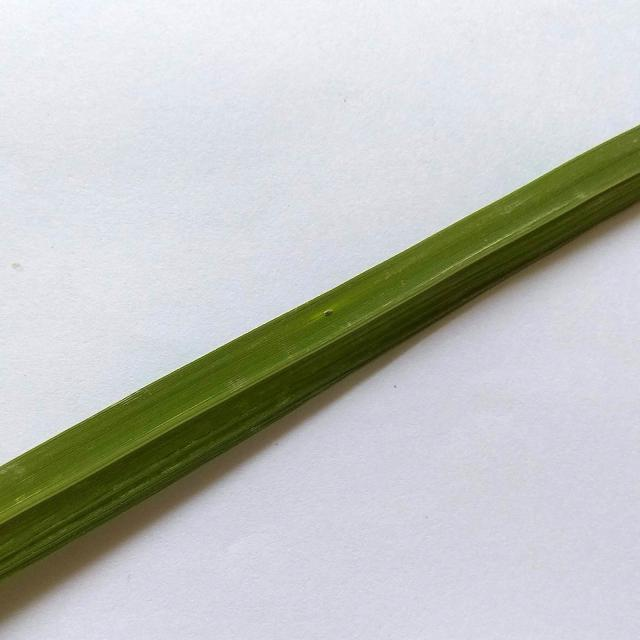healthy: (0, 125, 640, 583)
